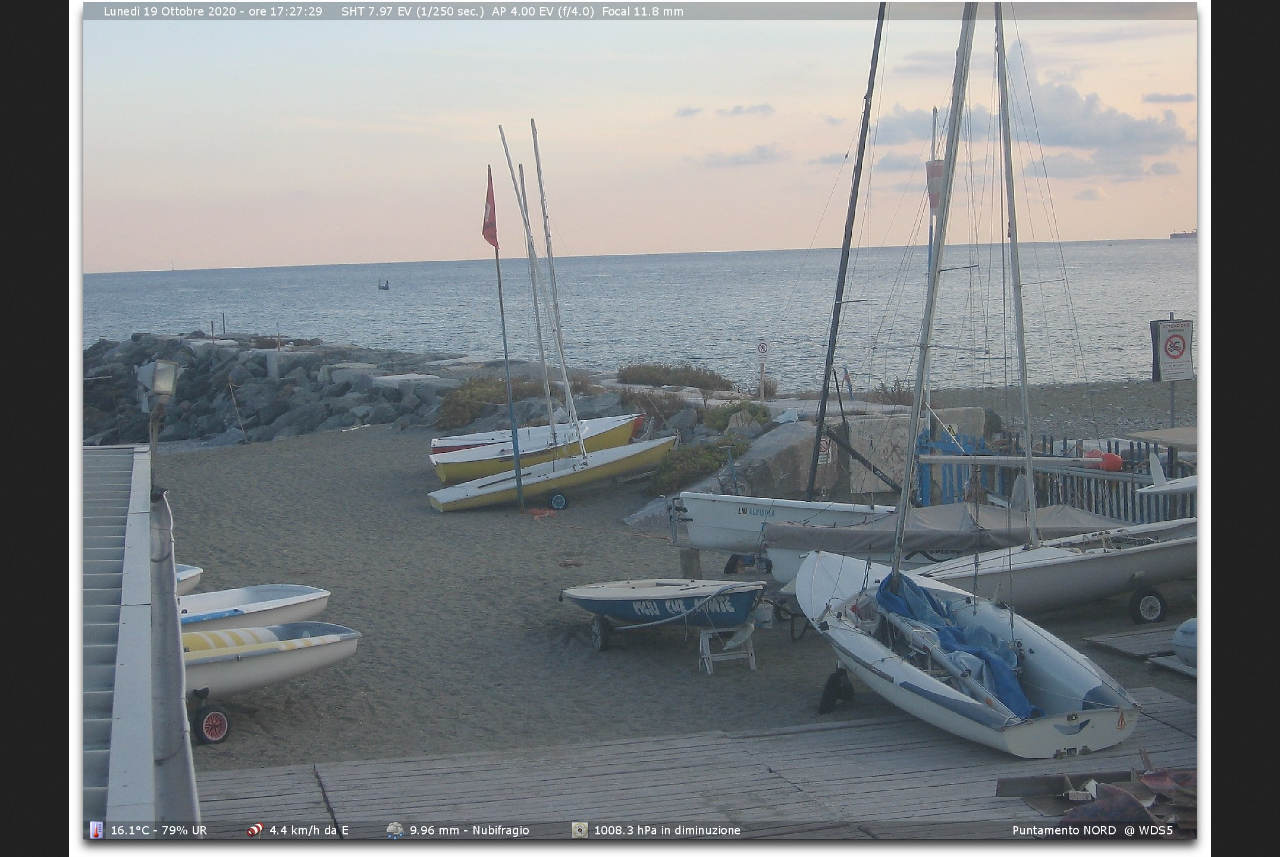no: (480, 176, 499, 248)
